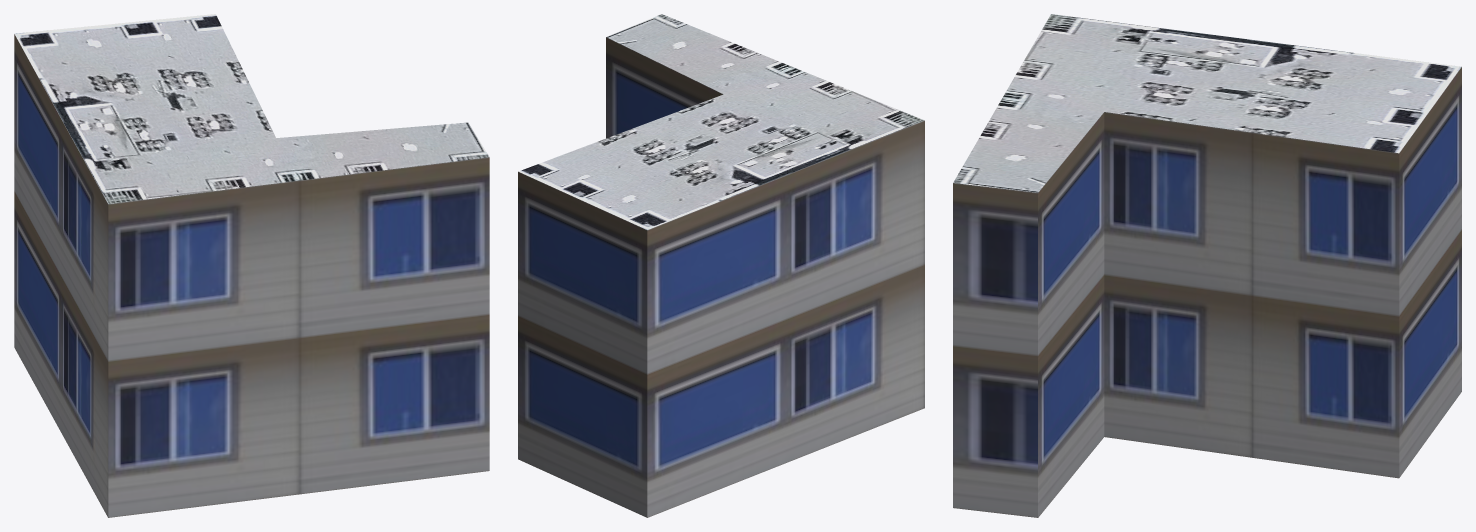
The model's file is ResTex__2660.fbx.
3 views of the same model, side by side, from view 1: azimuth 30°, elevation 25°; view 2: azimuth 150°, elevation 25°; view 3: azimuth 270°, elevation 25° (orthographic). The views are drawn at different scales.
Visible parts, largest first — view 1: CityEngineMaterial_23_m, CityEngineMaterial_m; view 2: CityEngineMaterial_23_m, CityEngineMaterial_m; view 3: CityEngineMaterial_23_m, CityEngineMaterial_m.
Part boxes in pixels (x1,y1,x2,y2): CityEngineMaterial_23_m: (14, 34, 489, 517); CityEngineMaterial_m: (14, 14, 489, 203); CityEngineMaterial_23_m: (518, 37, 924, 517); CityEngineMaterial_m: (518, 14, 924, 229); CityEngineMaterial_23_m: (953, 67, 1461, 517); CityEngineMaterial_m: (953, 14, 1461, 192).
Bounding box in the file's own units: 7.08 × 6 × 8.51.
2 materials, 2 textured.
